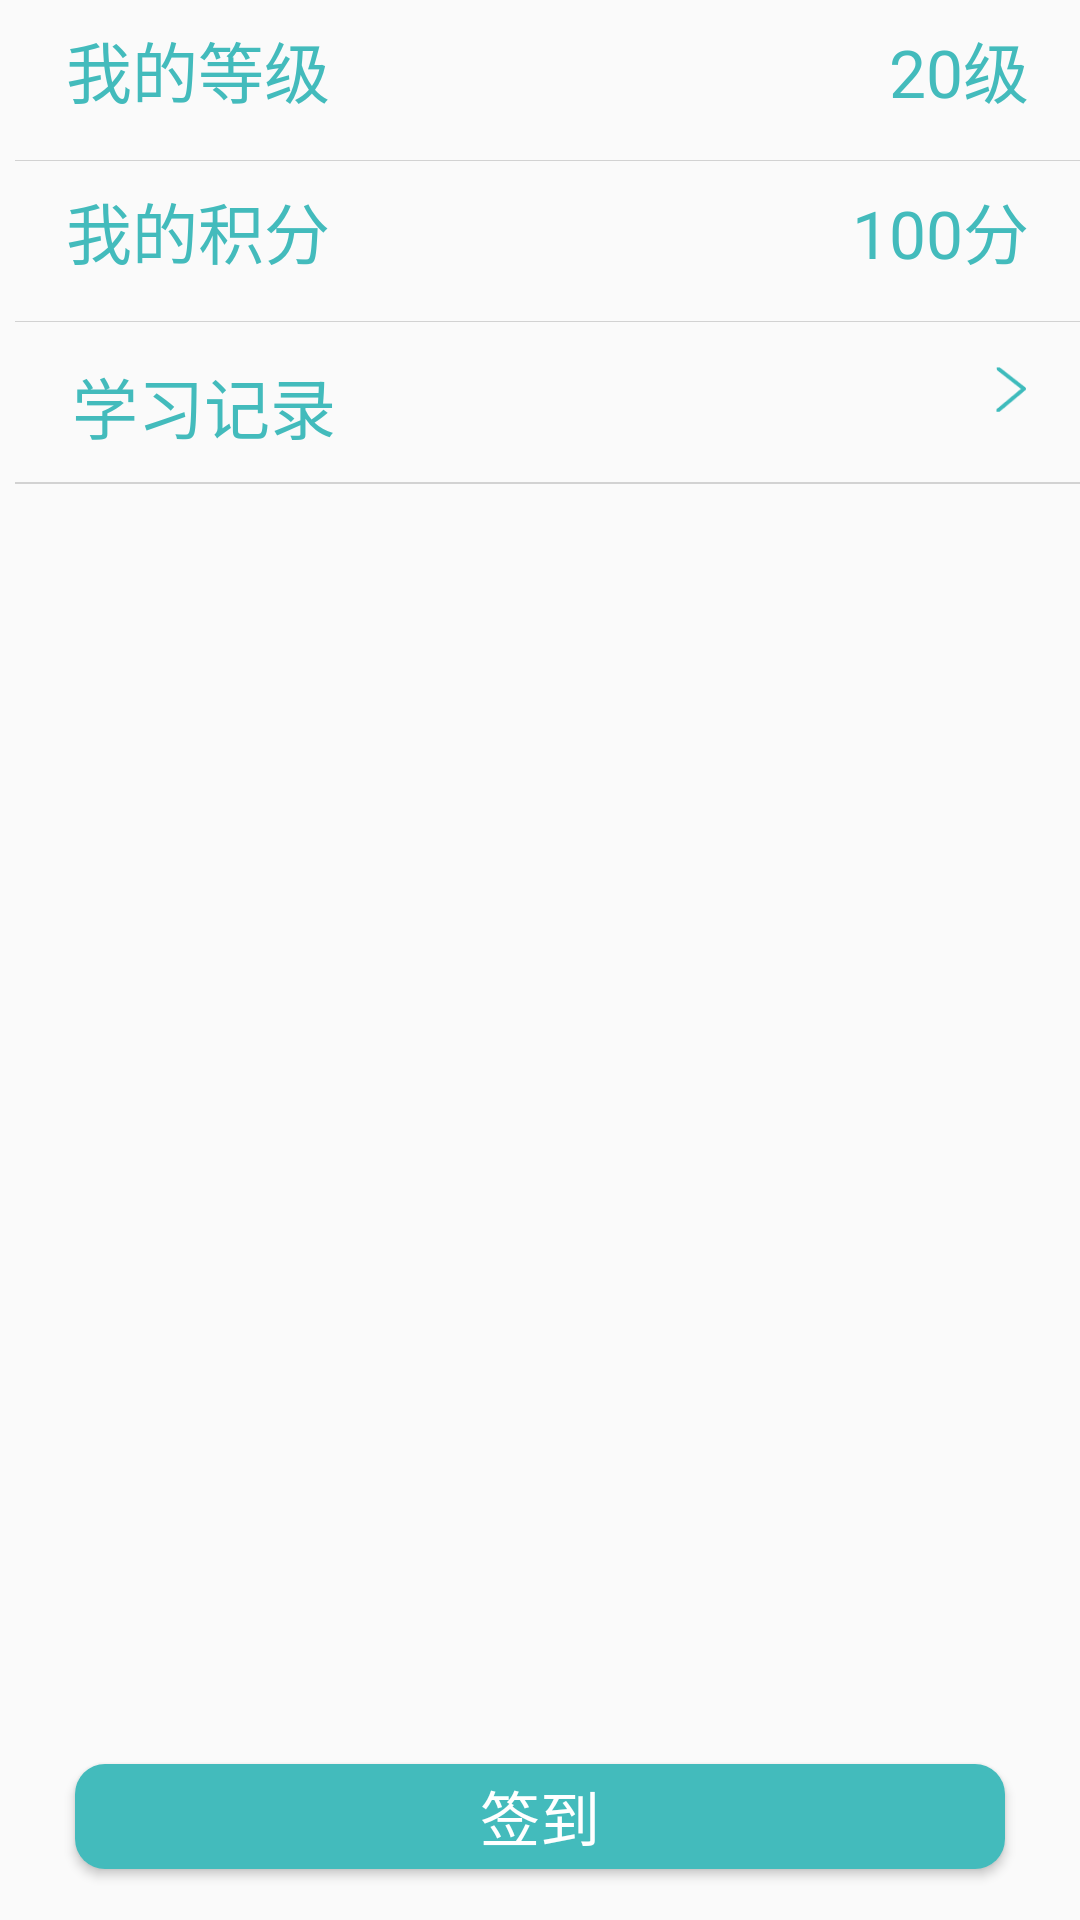

Icon bounding boxes for this 1080px×1920px phone screenshot, format (x1, y1, x2, y2):
next: (996, 367, 1026, 412)
